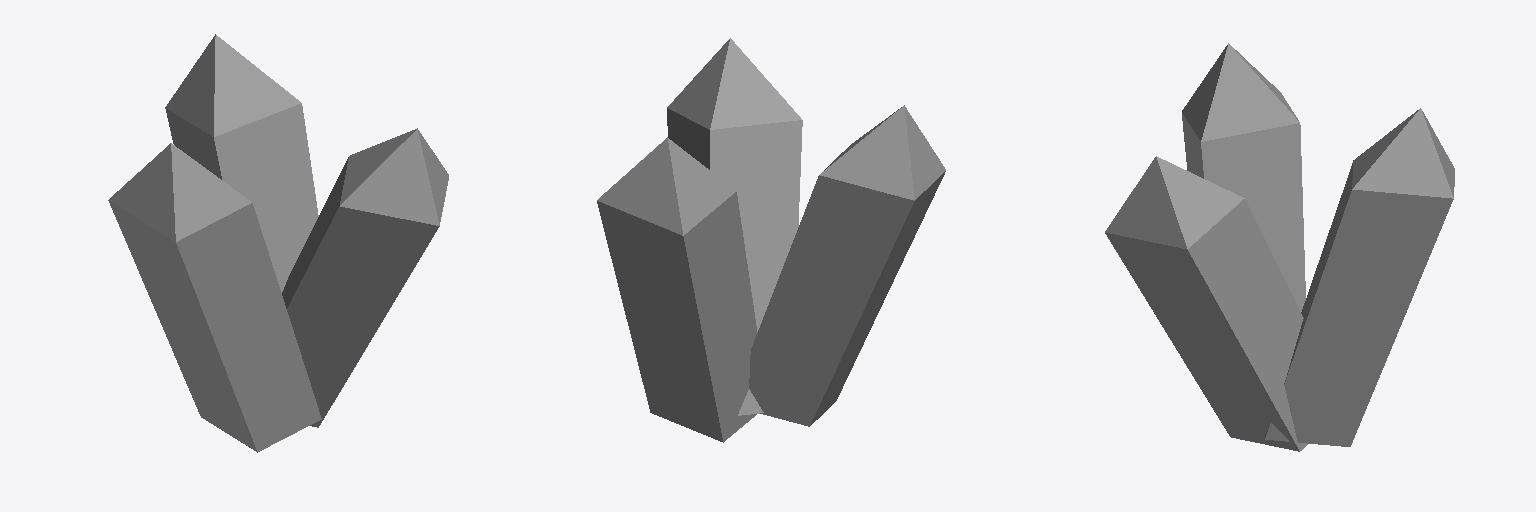
File: underch_crystal.obj
3 renders of one model, left to right at view 1: azimuth 30°, elevation 25°; view 2: azimuth 150°, elevation 25°; view 3: azimuth 270°, elevation 25°, orthographic.
Visible parts, largest first — view 1: Cube.001; view 2: Cube.001; view 3: Cube.001.
Boxes of the visible parts, <box> form: Cube.001: <box>108,34,448,452</box>; Cube.001: <box>597,38,945,442</box>; Cube.001: <box>1105,43,1454,451</box>.
Bounding box in the file's own units: 0.9262 × 0.9788 × 0.955.